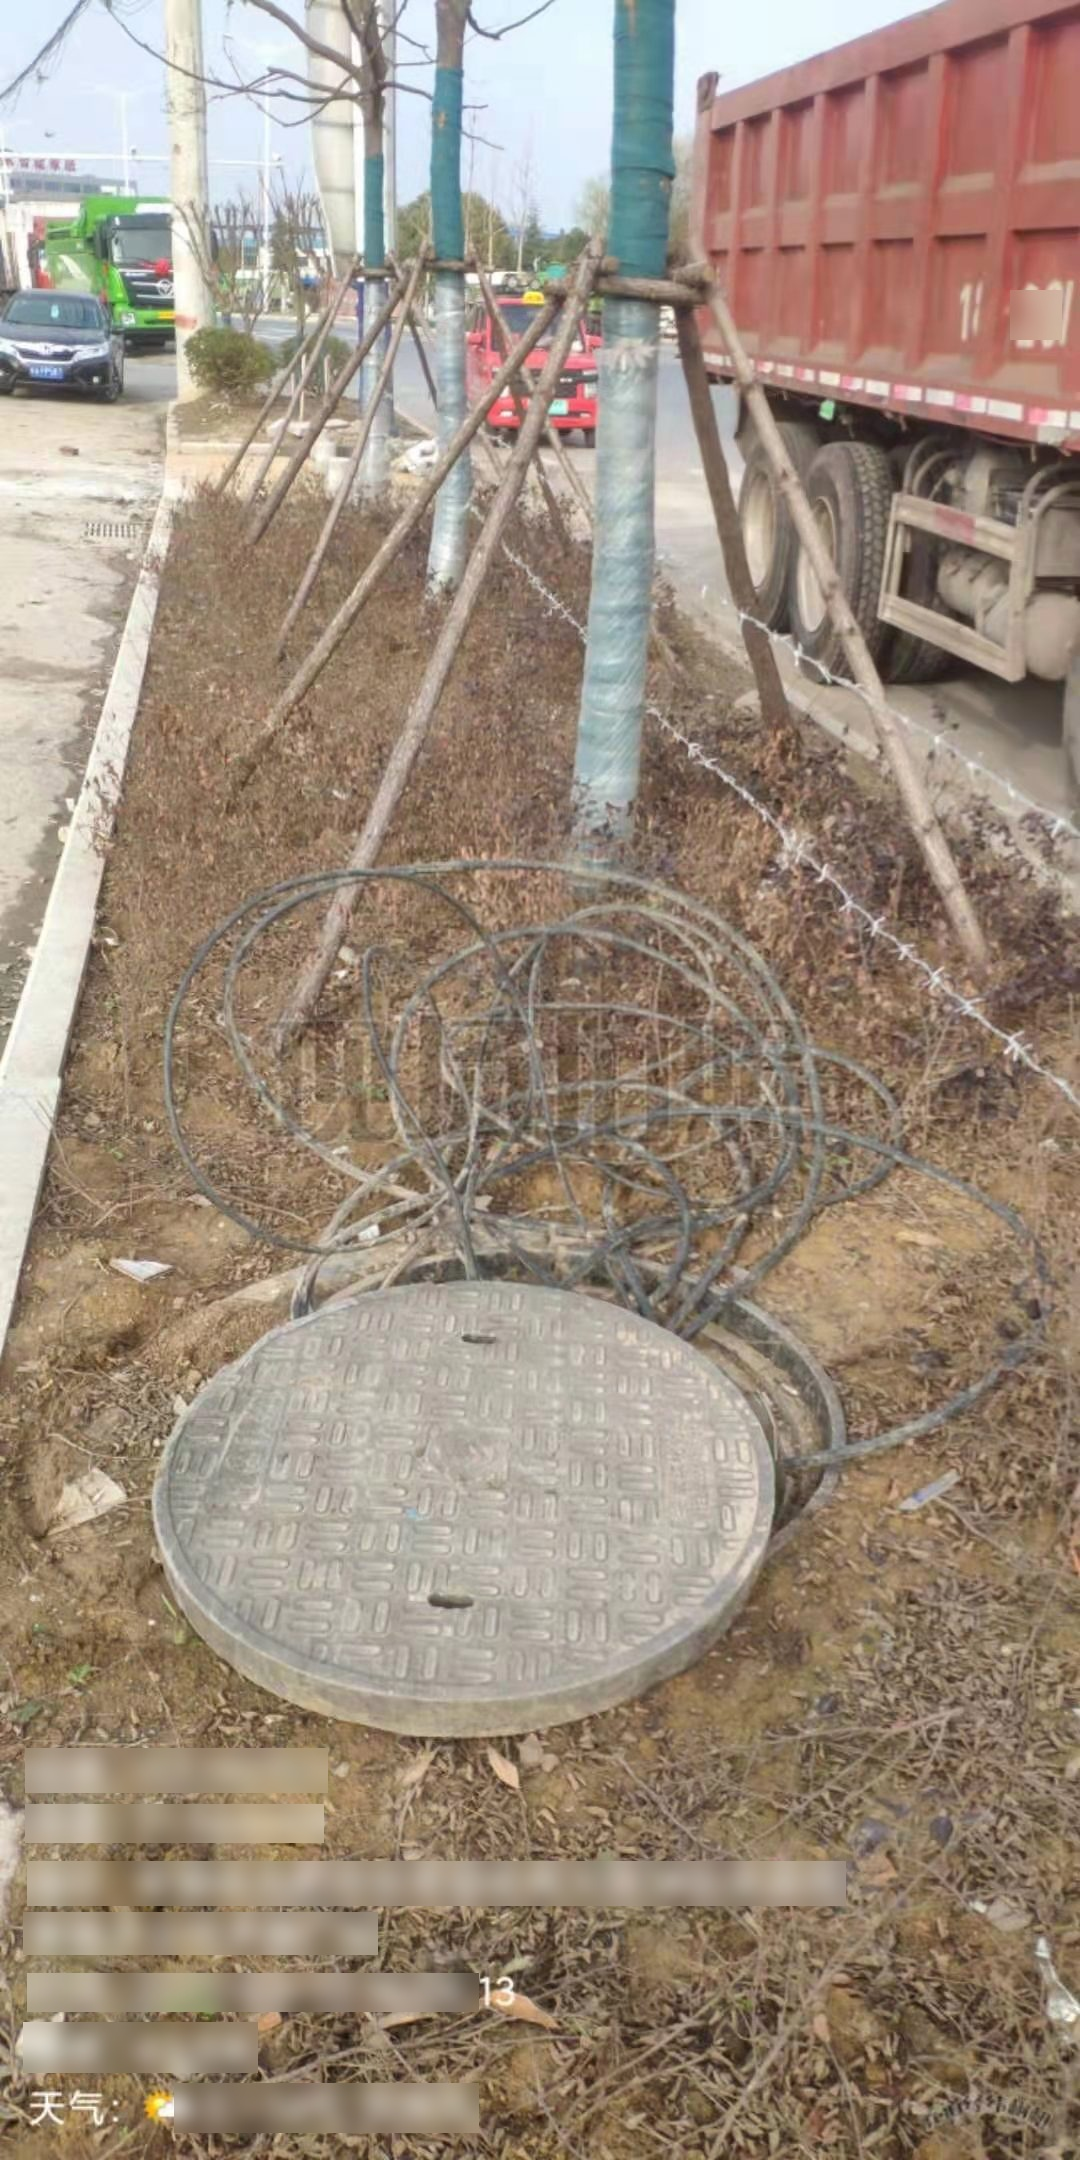uncovered: (150, 1233, 838, 1730)
